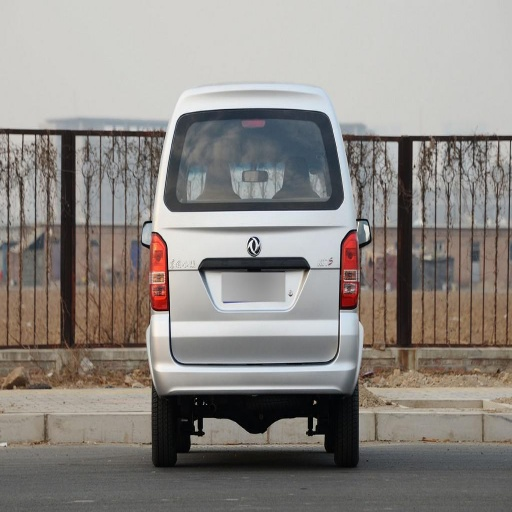back_bumper: (152, 310, 361, 395)
tailgate: (156, 205, 344, 316)
trunk: (174, 215, 355, 358)
